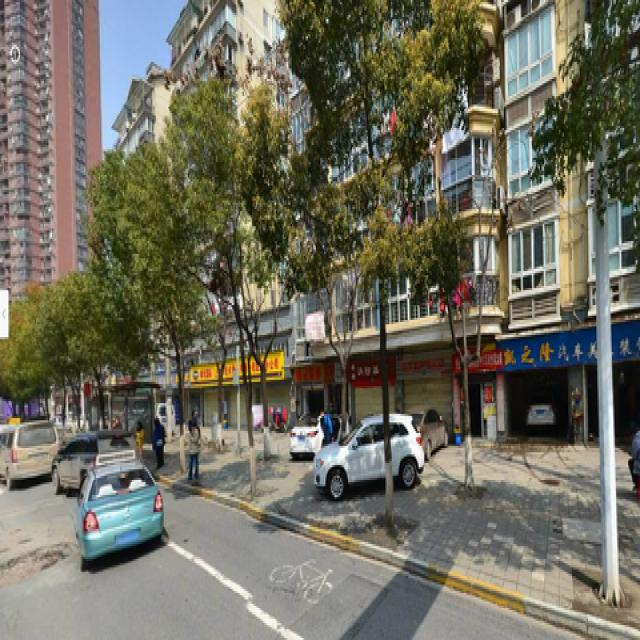cinn: (297, 15, 440, 491), (186, 111, 278, 499)
